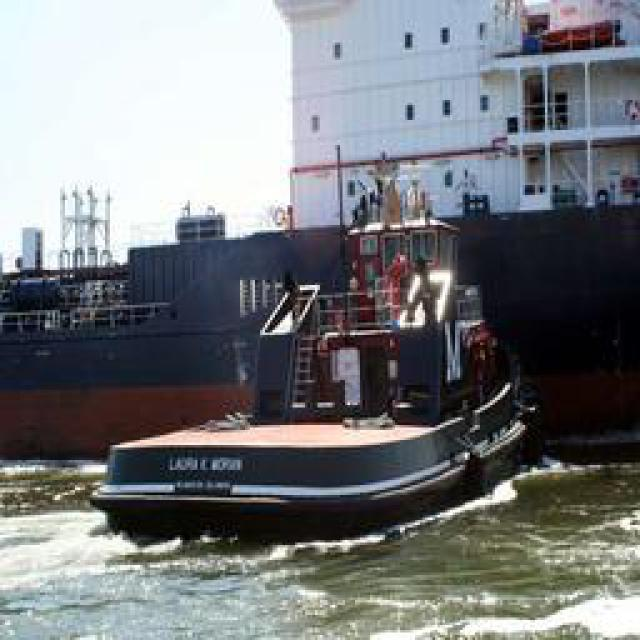Ship: (90, 254, 540, 539)
